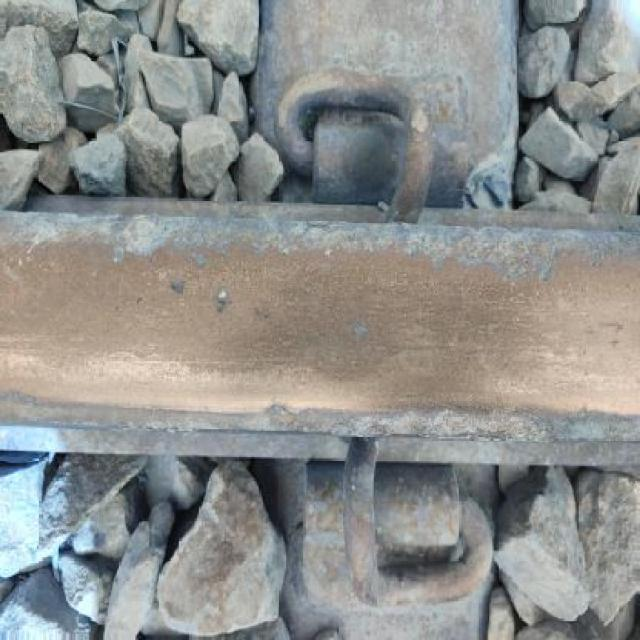non-defective: (2, 198, 640, 464)
